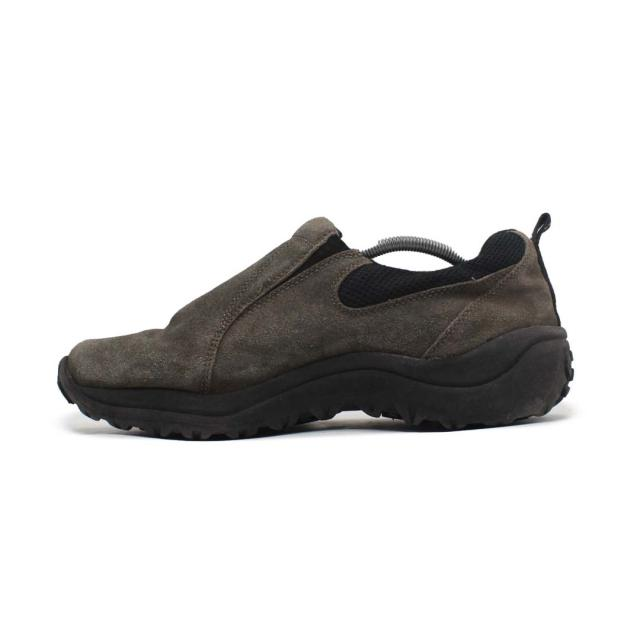heel: (506, 212, 579, 334)
midsole: (54, 350, 579, 447)
uppersole: (65, 217, 509, 386)
